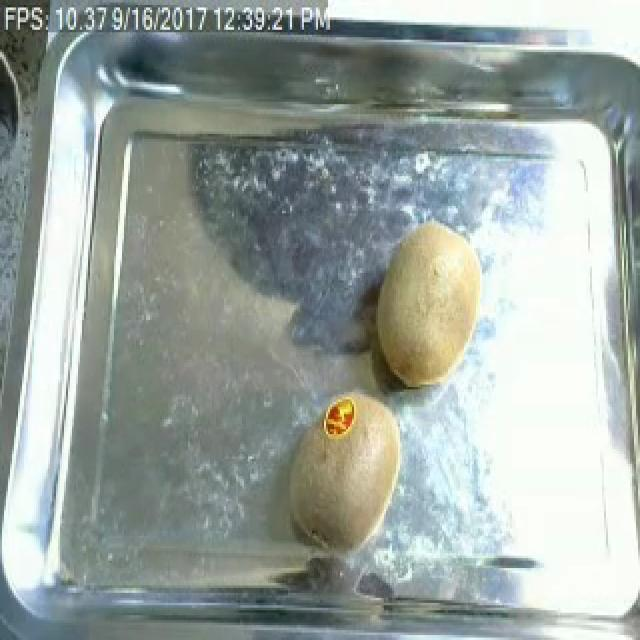Fruit: (276, 387, 410, 558), (368, 213, 488, 392)
